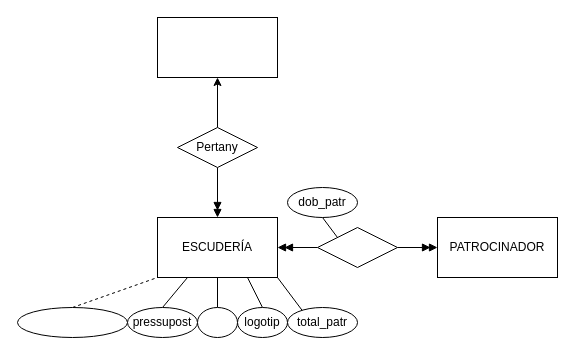
Some shapes in this 575 by 356 pixel diagram are drawn without their labels. Each missing label, with the centre of its shape:
"nom" belongs at [217,322].
"PAIS" belongs at [217,47].
"Patrocina" belongs at [357,247].
"percentatge_del _total" belongs at [72,322].
